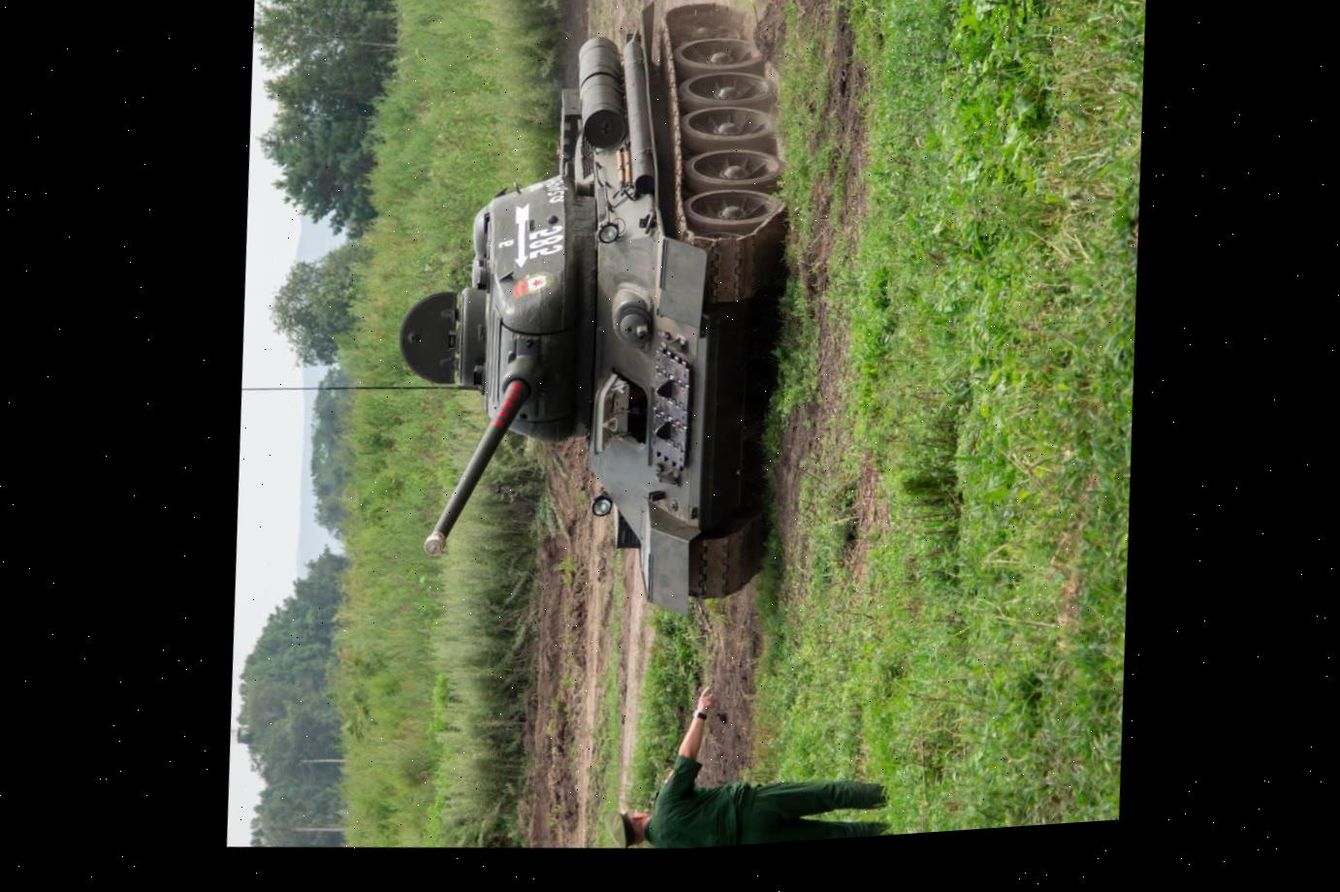tank: (365, 0, 821, 646)
